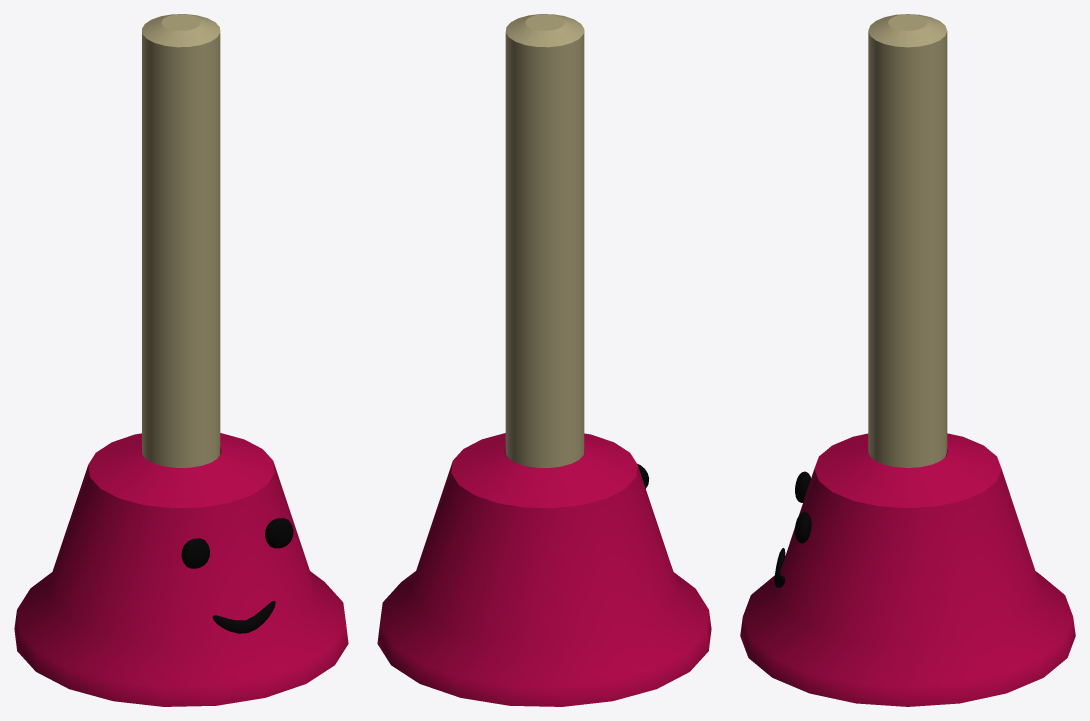
Rendered from beru.fbx.
The picture shows the model from 3 angles, left to right: view 1: azimuth 30°, elevation 25°; view 2: azimuth 150°, elevation 25°; view 3: azimuth 270°, elevation 25°; orthographic projection.
Visible parts, largest first — view 1: pasted__hidari_me1, pasted__bou; view 2: pasted__hidari_me1, pasted__bou; view 3: pasted__hidari_me1, pasted__bou.
Boxes of the visible parts, x1,y1,x2,y2 form: pasted__hidari_me1: [14, 433, 348, 706]; pasted__bou: [142, 14, 220, 467]; pasted__hidari_me1: [377, 433, 711, 706]; pasted__bou: [505, 14, 584, 467]; pasted__hidari_me1: [740, 433, 1075, 706]; pasted__bou: [868, 14, 947, 467].
Size of the model in its own units: 41.27 by 83.19 by 41.27.
